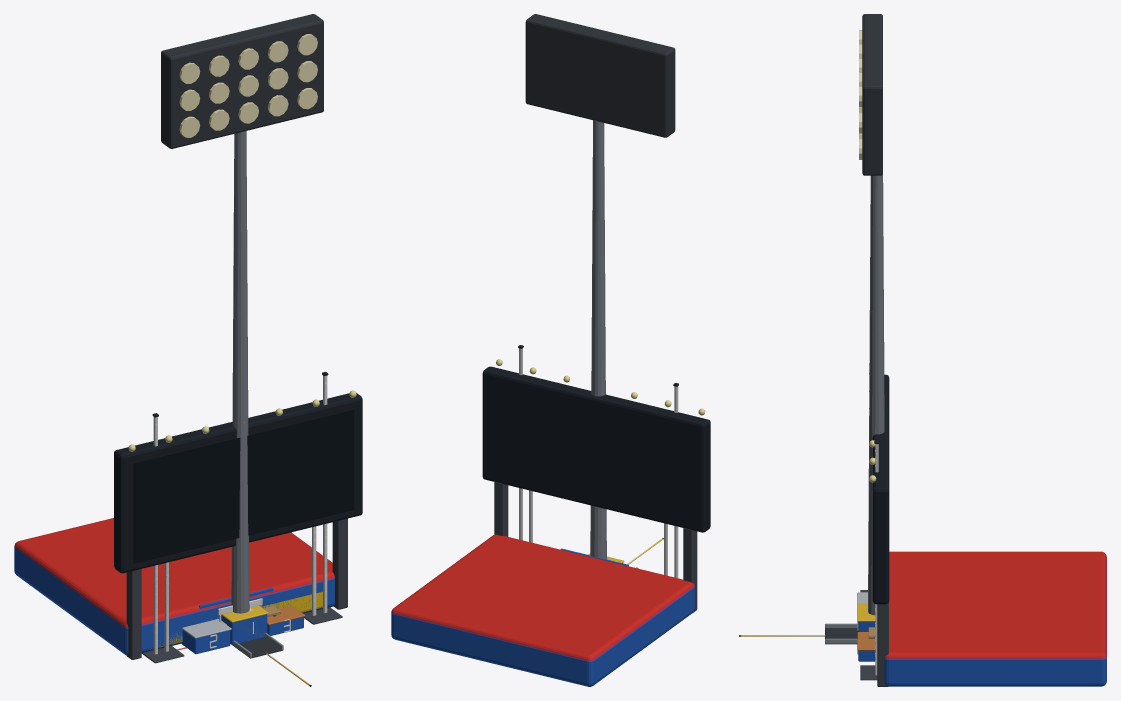
File: atletismo.glb
3 renders of one model, left to right at view 1: azimuth 30°, elevation 25°; view 2: azimuth 150°, elevation 25°; view 3: azimuth 270°, elevation 25°, orthographic. The views are drawn at different scales.
Parts seen in each view (by area): view 1: Marcador_Pantalla, ColchonetaPertiga, Foco, Marcador, Foco_Luces, Podio, PostesPertiga, PostesAltura, CajaPertiga, ColchonetaAltura; view 2: ColchonetaPertiga, Marcador, Foco, PostesPertiga; view 3: ColchonetaPertiga, Foco, Marcador, Podio, CajaPertiga.
Part boxes in pixels (bbox=[...]): Marcador_Pantalla: bbox=[133, 410, 354, 563]; ColchonetaPertiga: bbox=[14, 518, 334, 655]; Foco: bbox=[161, 14, 323, 637]; Marcador: bbox=[114, 390, 362, 659]; Foco_Luces: bbox=[179, 34, 317, 137]; Podio: bbox=[181, 605, 305, 654]; PostesPertiga: bbox=[142, 372, 342, 663]; PostesAltura: bbox=[160, 526, 331, 660]; CajaPertiga: bbox=[232, 633, 283, 658]; ColchonetaAltura: bbox=[150, 591, 322, 649]; ColchonetaPertiga: bbox=[391, 534, 694, 686]; Marcador: bbox=[482, 359, 710, 612]; Foco: bbox=[525, 14, 675, 559]; PostesPertiga: bbox=[518, 345, 678, 578]; ColchonetaPertiga: bbox=[884, 551, 1106, 686]; Foco: bbox=[862, 14, 884, 615]; Marcador: bbox=[869, 373, 889, 686]; Podio: bbox=[857, 592, 875, 661]; CajaPertiga: bbox=[825, 623, 858, 644].
Size of the model in its own units: 6.6 by 15.9 by 8.88.
